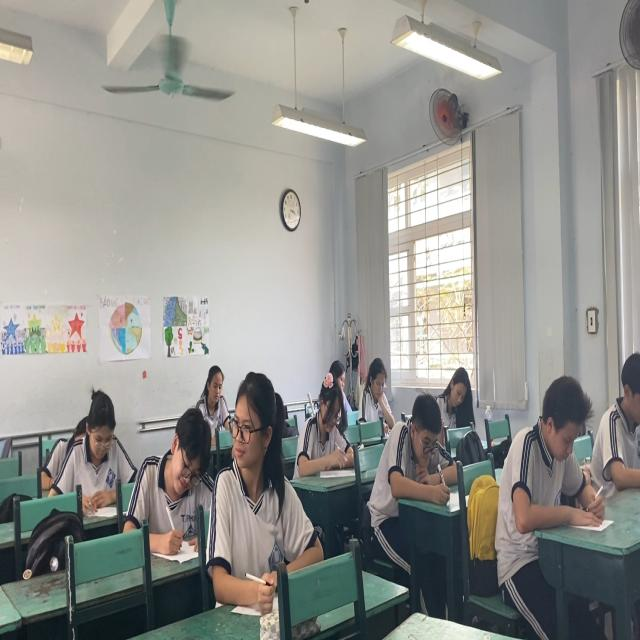cheating: (220, 374, 306, 592)
not_cheating: (515, 368, 599, 536), (142, 406, 220, 540), (64, 381, 134, 495), (382, 395, 451, 506), (296, 365, 356, 467), (352, 353, 397, 422), (192, 364, 235, 426), (444, 360, 474, 422)
